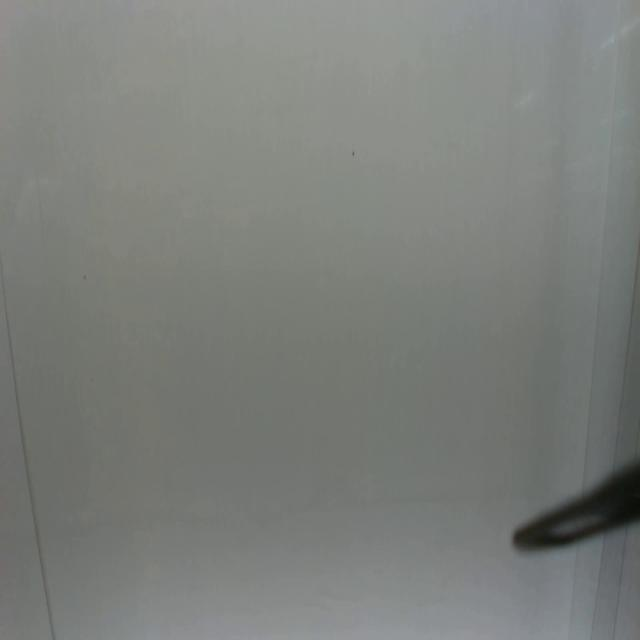hole: (350, 149, 358, 160), (82, 272, 88, 282)
